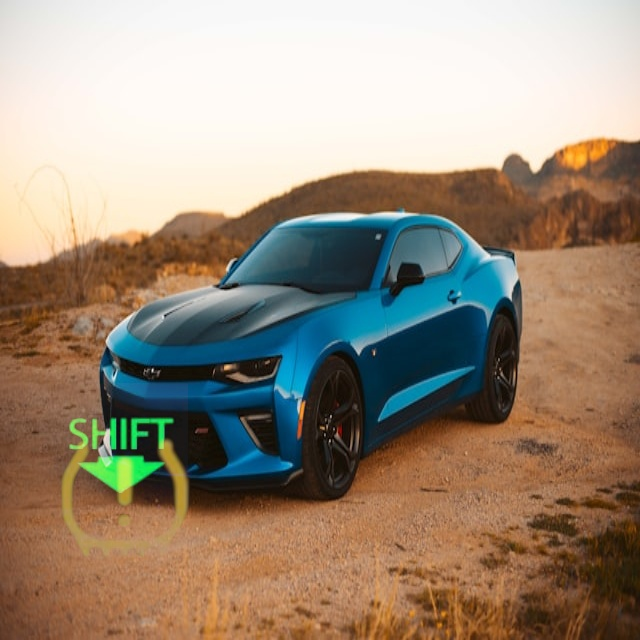symbol: (16, 392, 234, 610), (50, 383, 188, 521)
